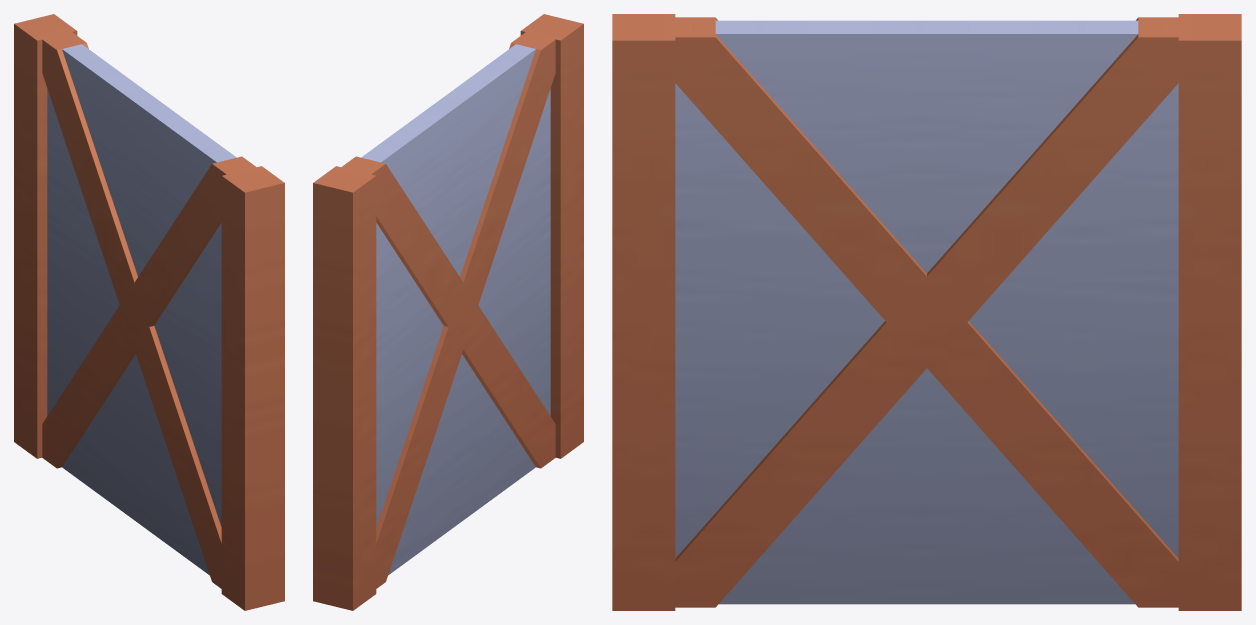
The model's file is wallDetailCross.fbx.
3 renders of one model, left to right at view 1: azimuth 30°, elevation 25°; view 2: azimuth 150°, elevation 25°; view 3: azimuth 270°, elevation 25°, orthographic. The views are drawn at different scales.
Visible parts, largest first — view 1: wallDetailCross; view 2: wallDetailCross; view 3: wallDetailCross.
Boxes of the visible parts, left/top/right/bottom form: wallDetailCross: left=14, top=14, right=284, bottom=610; wallDetailCross: left=313, top=14, right=583, bottom=610; wallDetailCross: left=612, top=14, right=1241, bottom=610.
Bounding box in the file's own units: 0.1 × 1 × 1.
